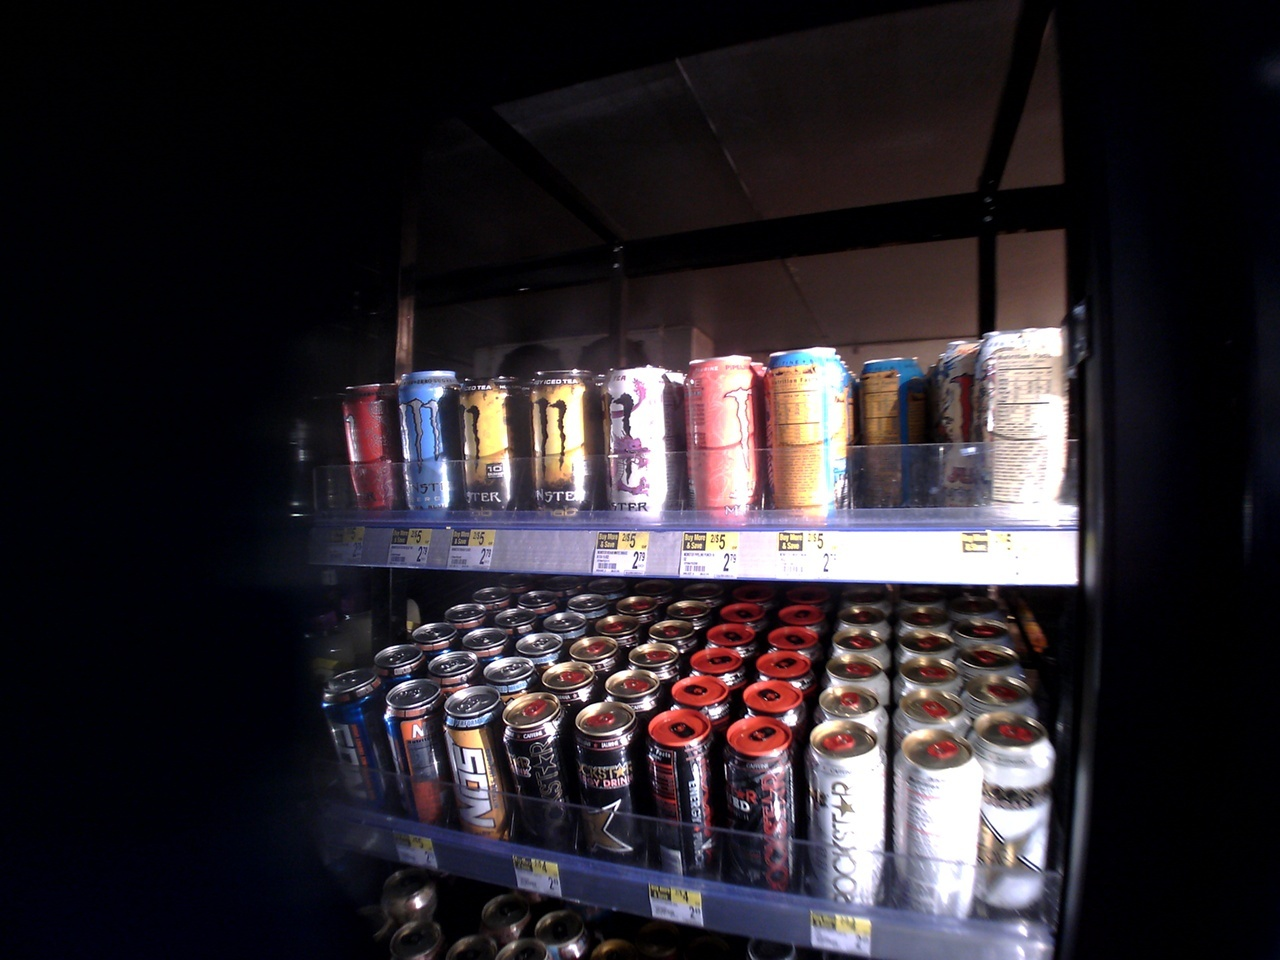shelf: (266, 567, 1084, 902), (245, 331, 1064, 566)
